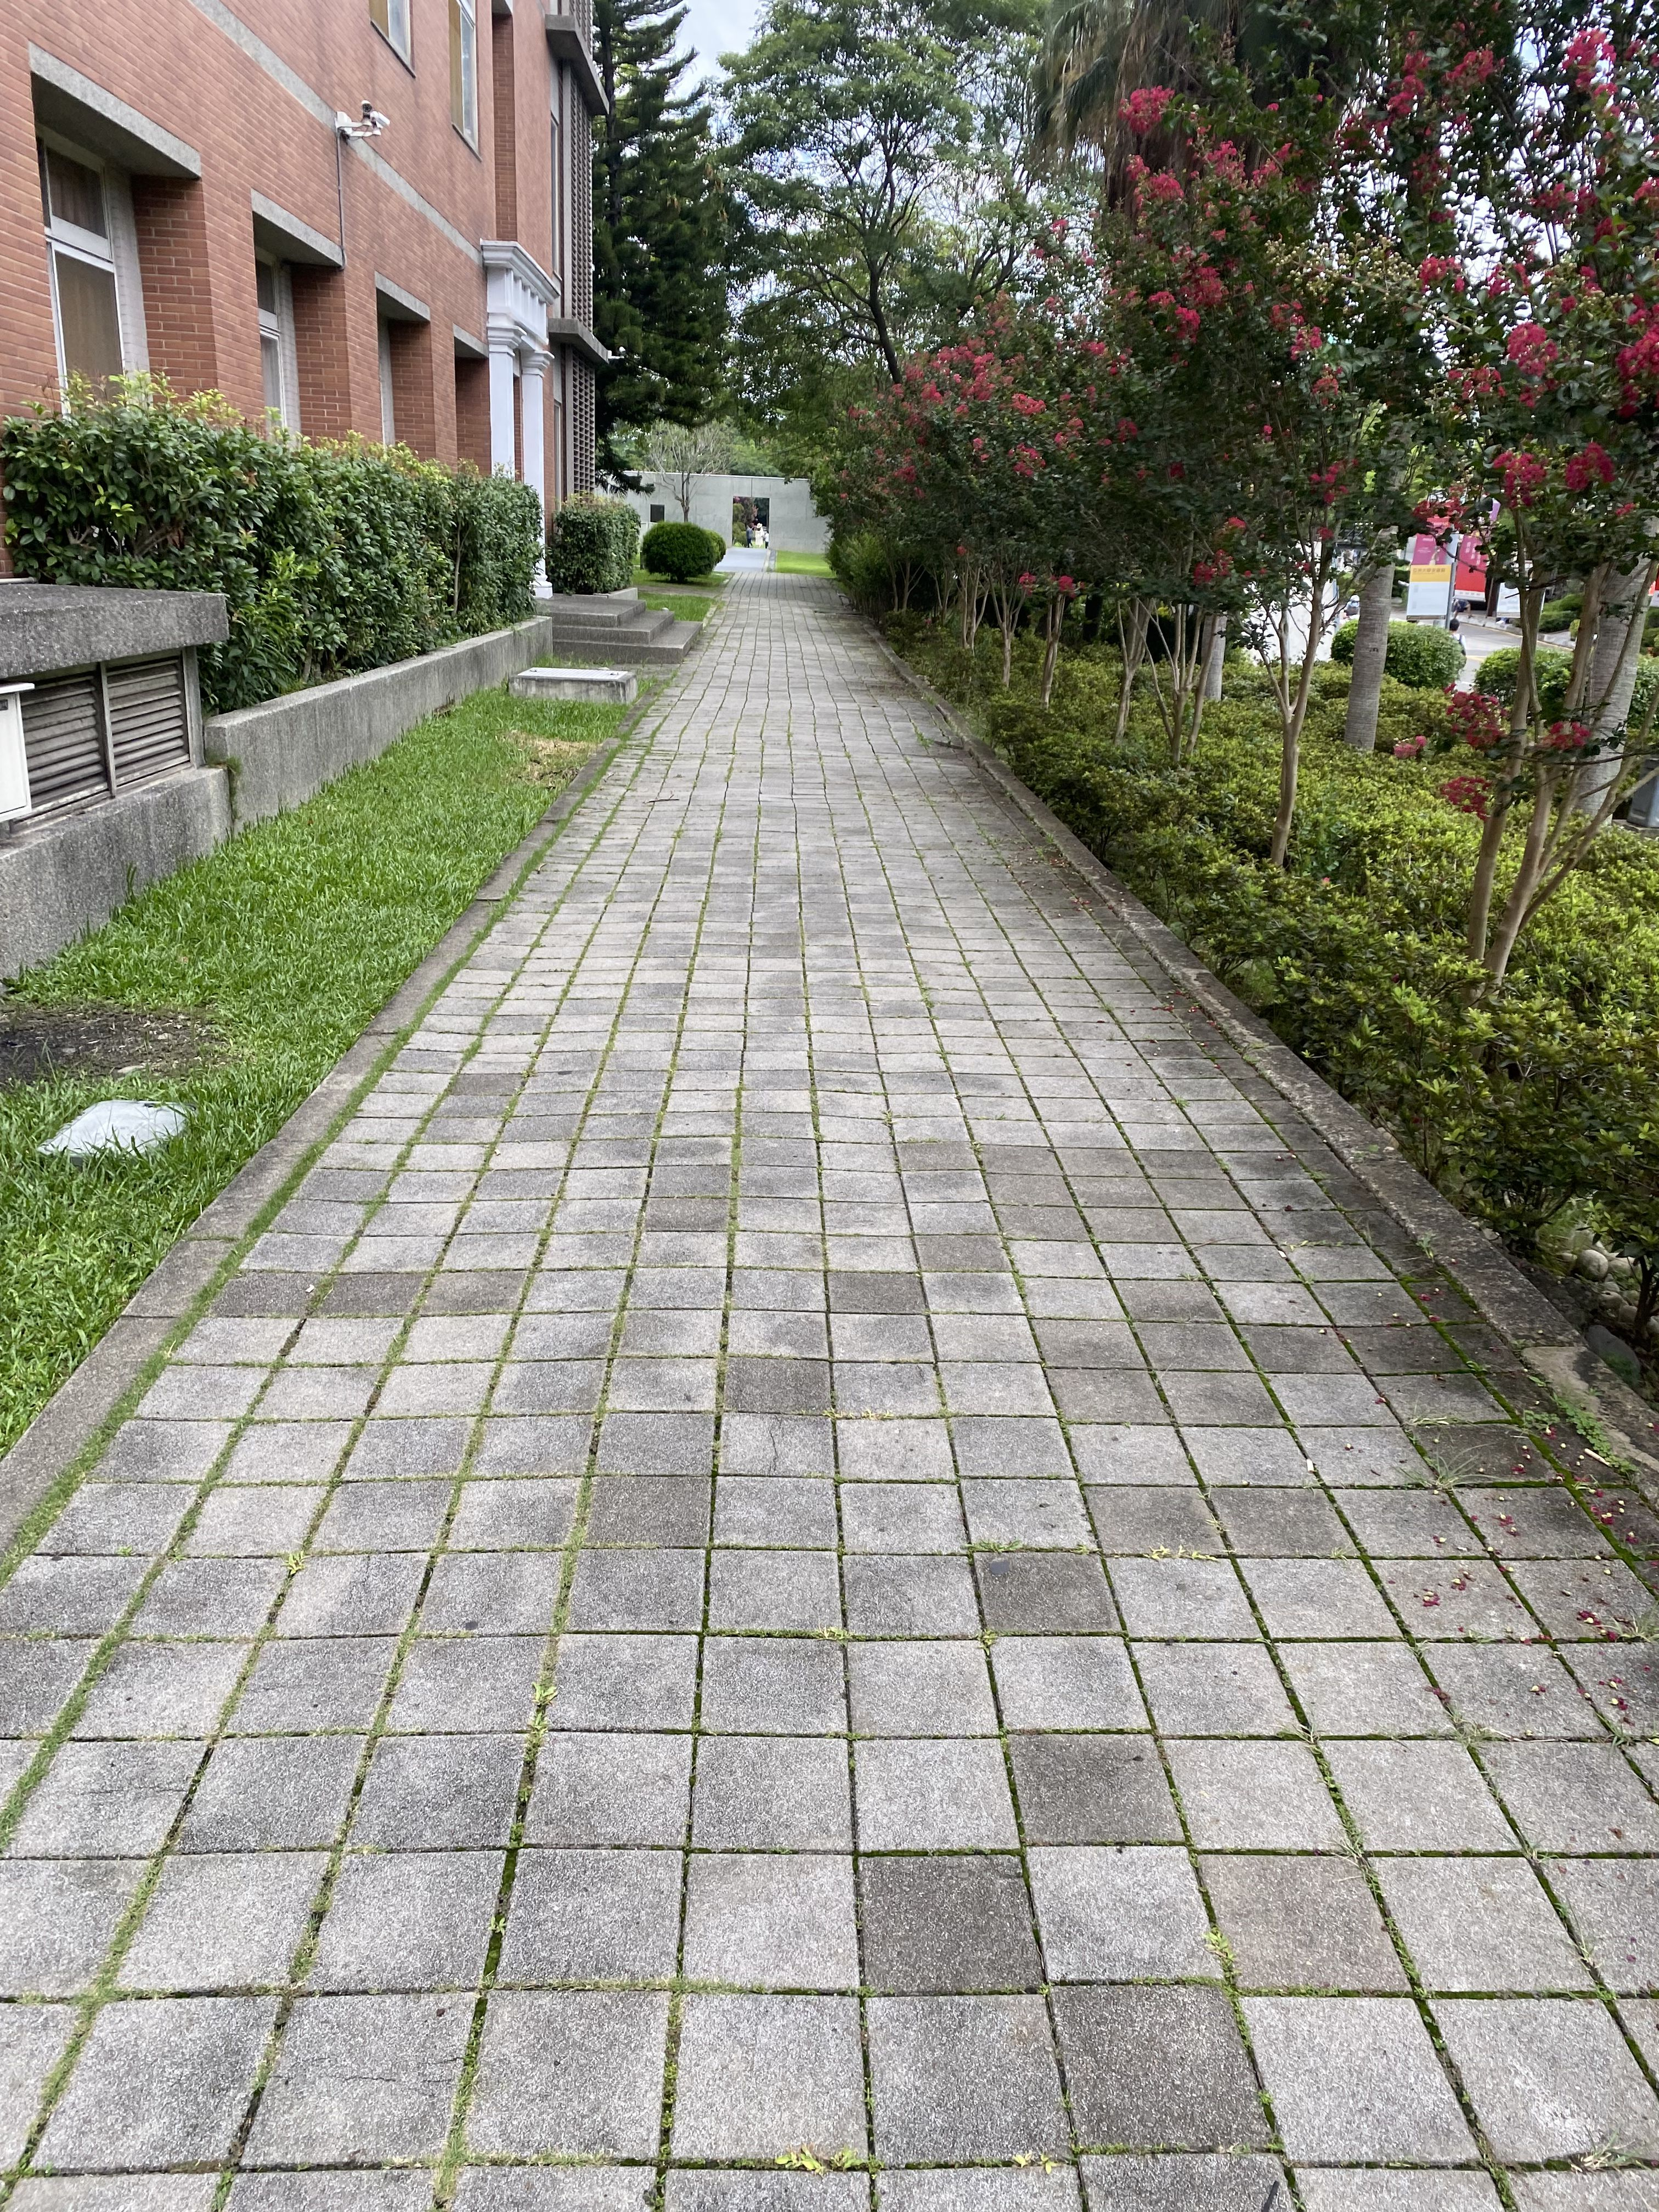0: (14, 786, 699, 2200)
sidewalk: (558, 538, 1659, 2207)
